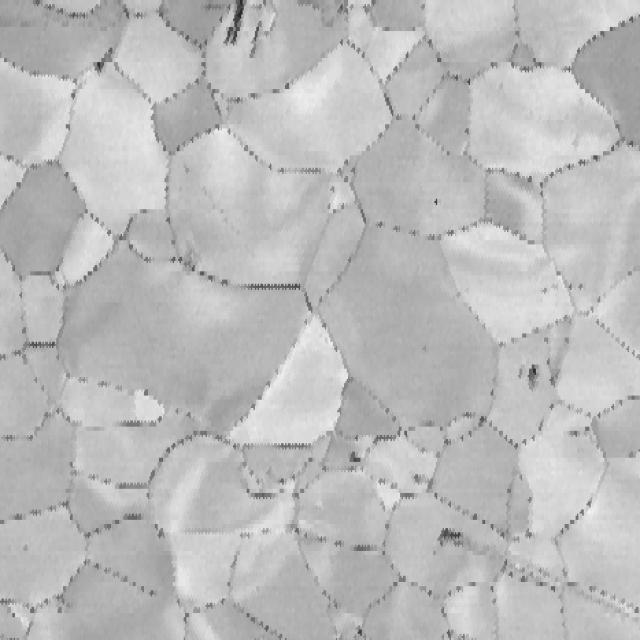good_void: (221, 0, 247, 53), (435, 519, 472, 551), (344, 444, 368, 482), (518, 363, 542, 394), (93, 46, 115, 75), (249, 17, 264, 58), (410, 468, 430, 488), (152, 522, 171, 542), (538, 283, 553, 298), (20, 540, 31, 557), (181, 162, 193, 176), (419, 340, 429, 356), (431, 196, 440, 210)
